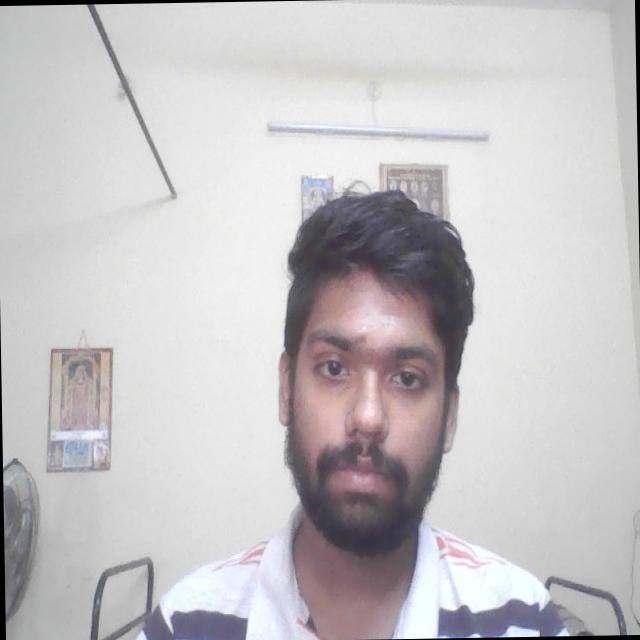Focused: (272, 276, 458, 508)
